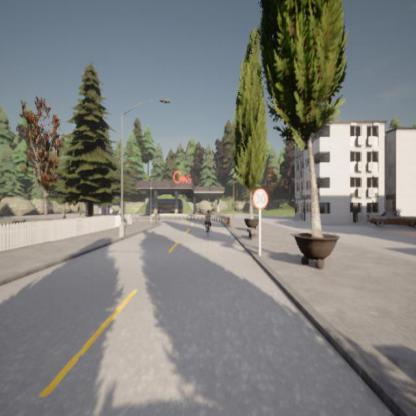motobike: (203, 210, 212, 234)
traffic_sign_30: (252, 189, 269, 209)
